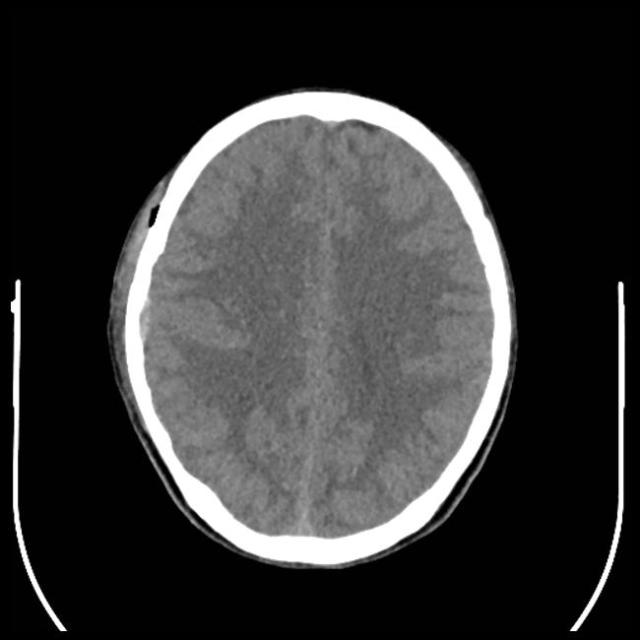lesion: (105, 88, 521, 568)
